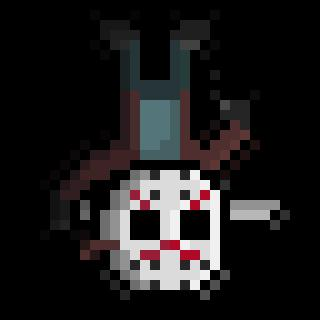Jason: (16, 8, 303, 304)
